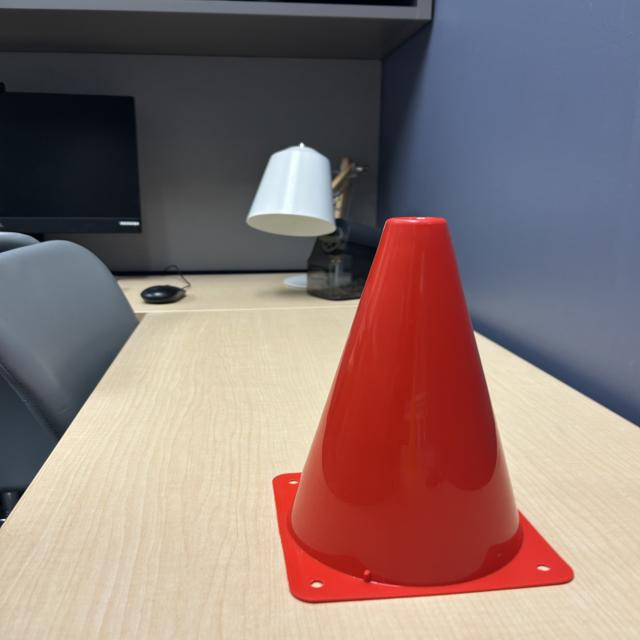orange cone: (266, 215, 586, 611)
